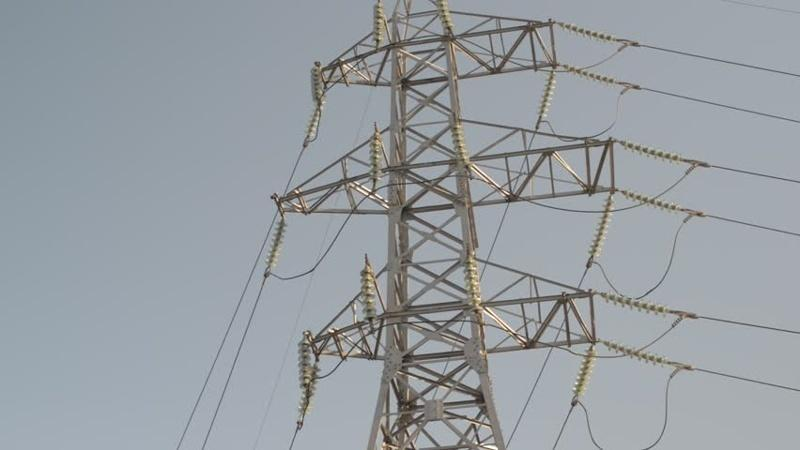power_tower: (262, 0, 702, 445)
